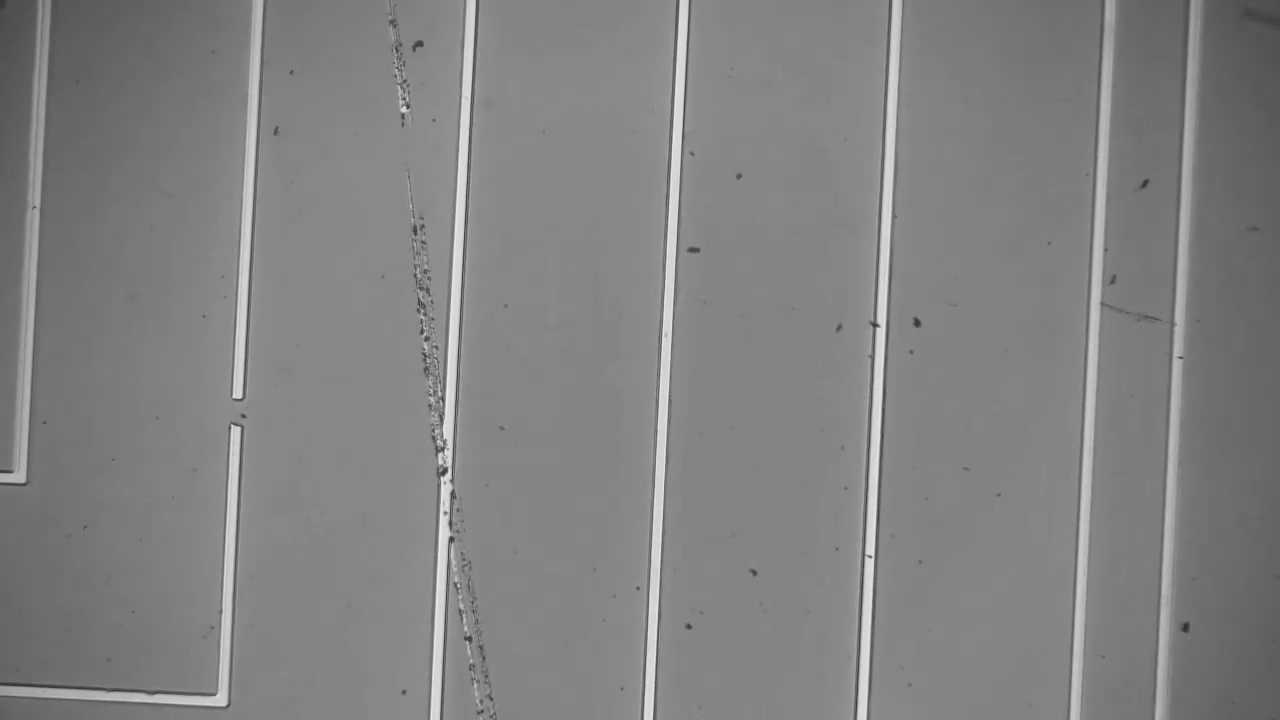open: (211, 380, 262, 448)
scratch: (379, 8, 499, 711), (1096, 282, 1174, 337)
